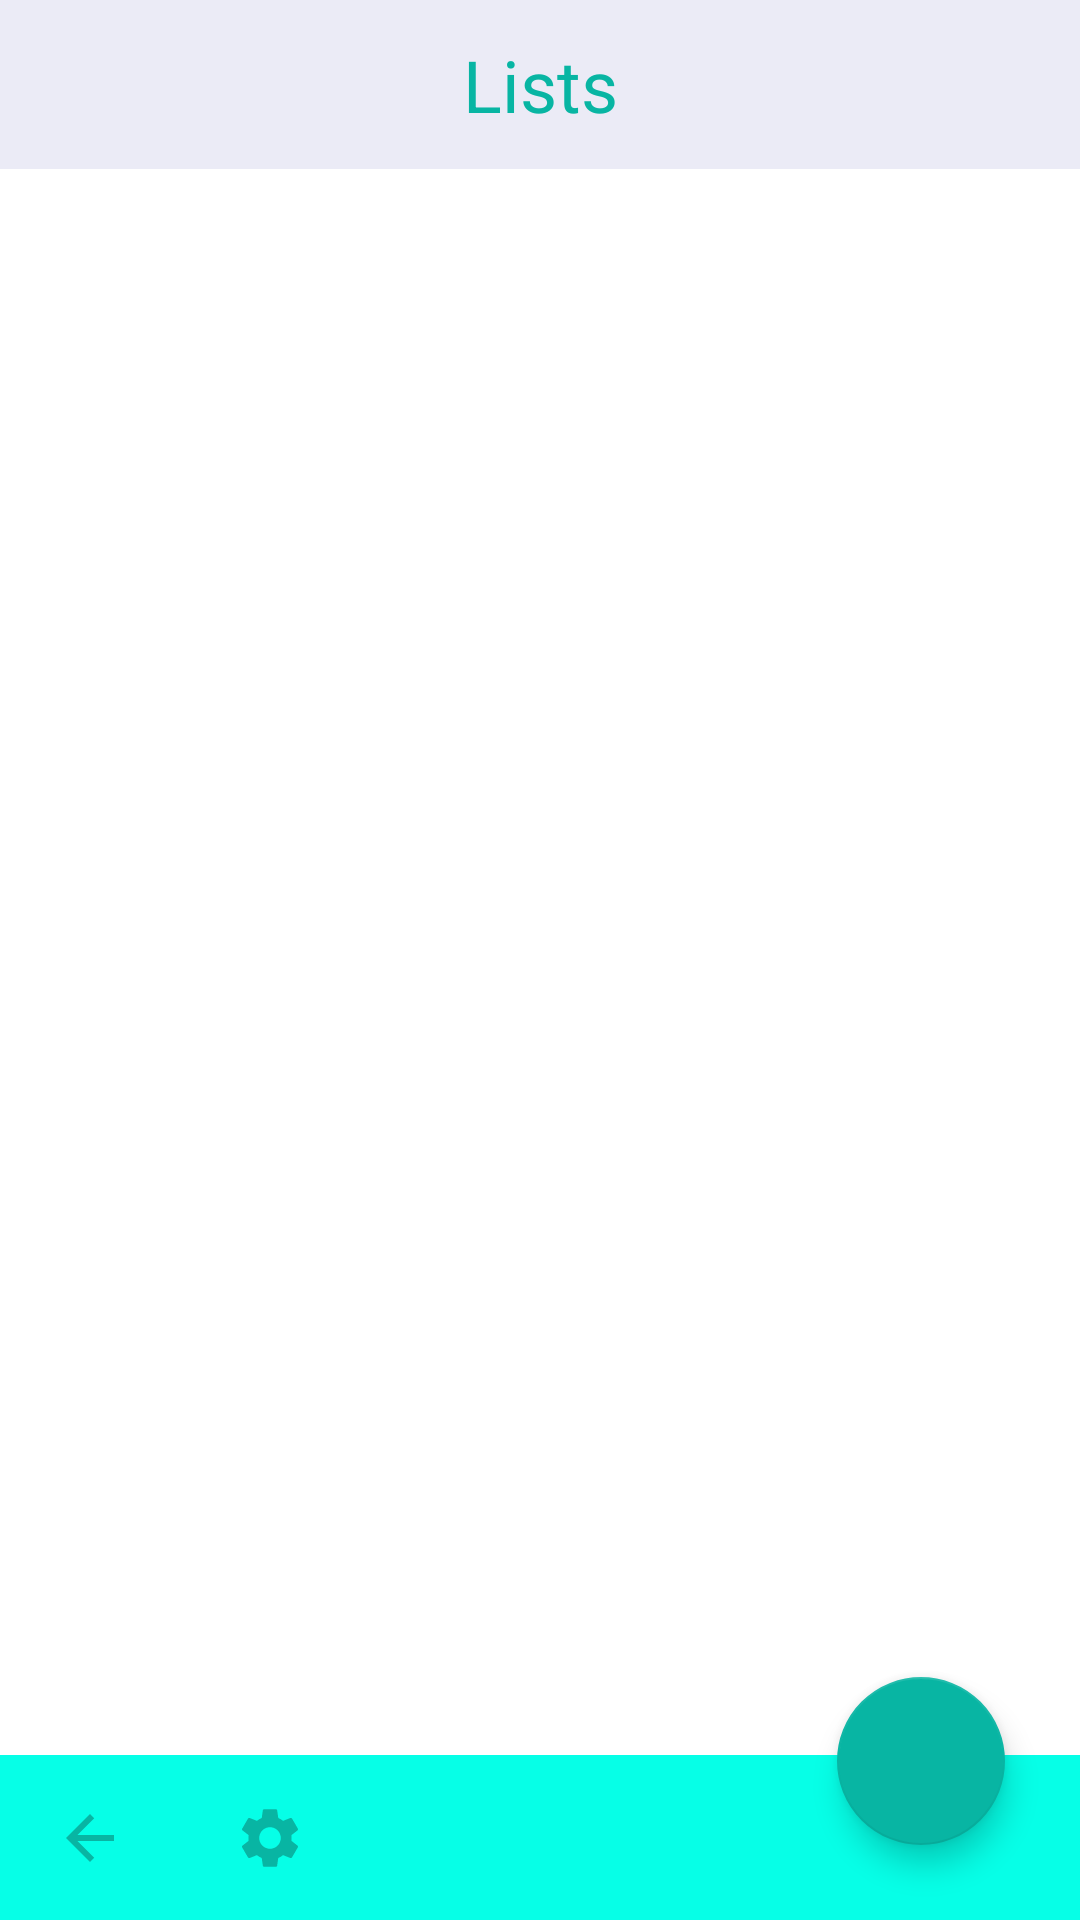

Named icons in this screenshot (1080×1920) and their bounding boxes, (x1, y1, x2, y2):
arrow back: (66, 1814, 114, 1862)
settings: (242, 1809, 298, 1867)
